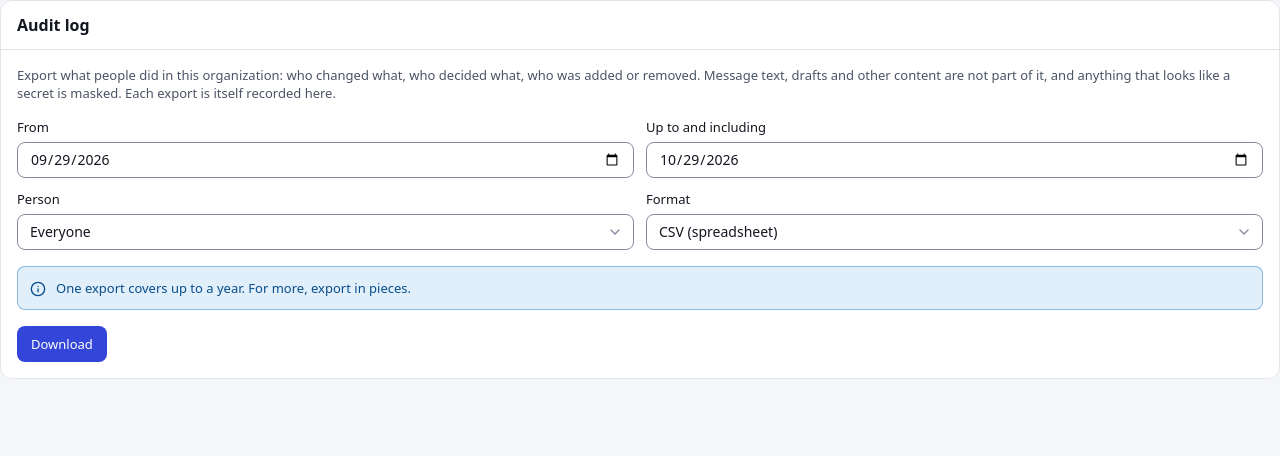
Scenario: the audit export › shows the server’s reason when the export is refused
What coordinates should you click on to do the following:
click the button "Download"
I would click on:
 (62, 344)
Its box is [17,326,107,362].
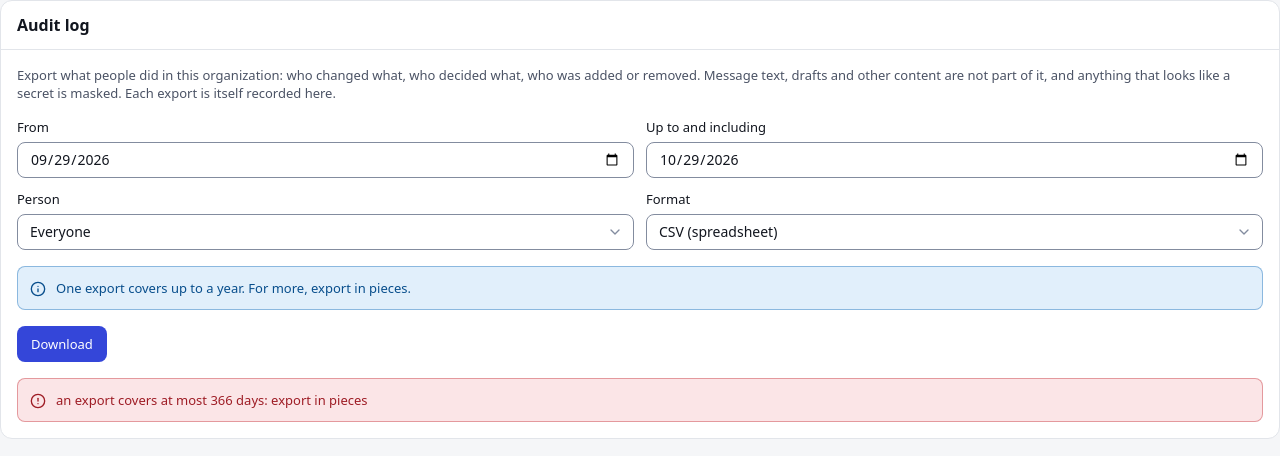
Expected: the text "an export covers at most 366 days: export in pieces" is shown, [56,391,368,409]
